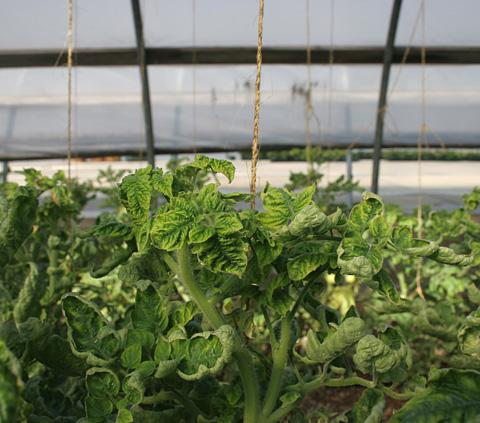Tomato leaf: (253, 176, 319, 252), (59, 290, 123, 361), (167, 324, 246, 379), (151, 196, 227, 250), (281, 244, 340, 280)
